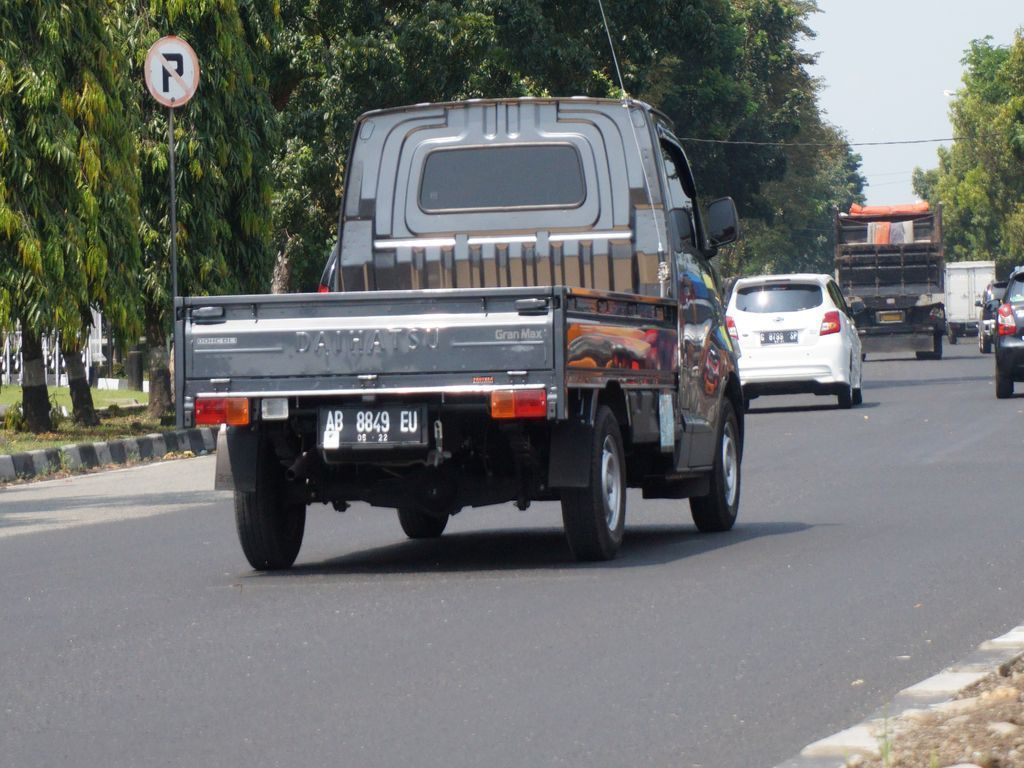plate: (324, 412, 418, 441)
